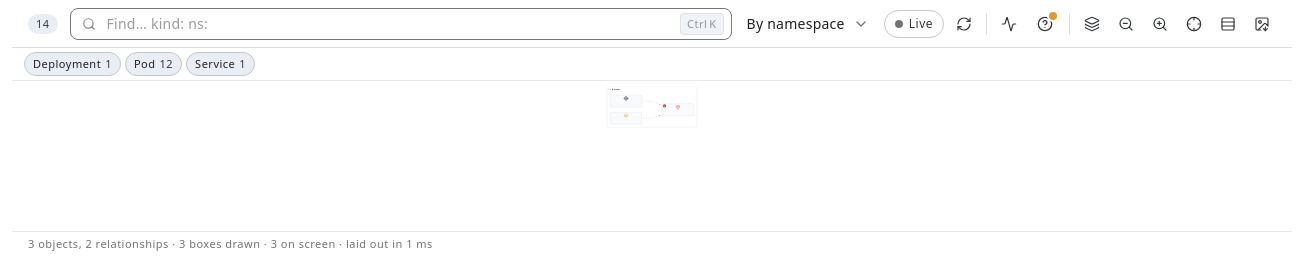
Test: TopologyView, as the toolbar now has it › searches in the toolbar field every pane uses, with no suggestion list
This screenshot has width=1304, height=268.
Step 1. Type "kind:Service" into the field named "Find on the topology" → point(401, 24), box [70,8,732,40]
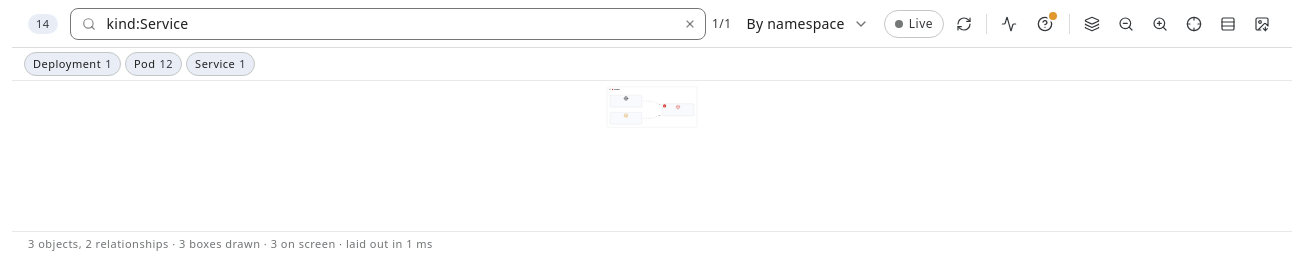
Expected: the text "1/1" is shown, [712,16,732,32]
